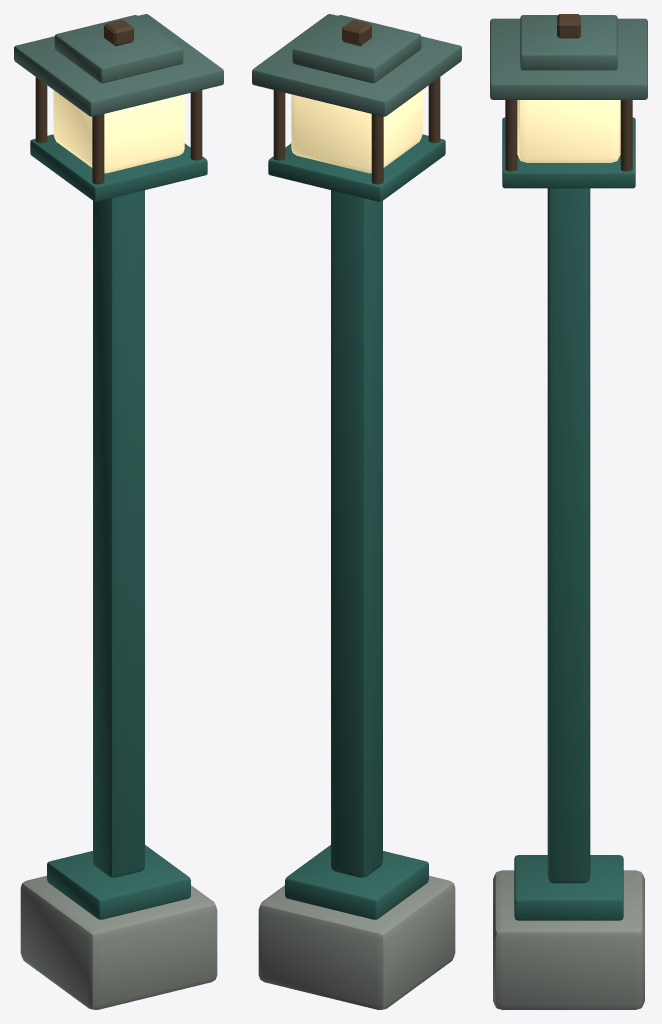
Rendered from lamp-post.glb.
The picture shows the model from 3 angles, left to right: view 1: azimuth 30°, elevation 25°; view 2: azimuth 150°, elevation 25°; view 3: azimuth 270°, elevation 25°; orthographic projection.
Parts seen in each view (by area): view 1: lamp-post; view 2: lamp-post; view 3: lamp-post.
Part boxes in pixels (bbox=[...]): lamp-post: bbox=[14, 14, 223, 1009]; lamp-post: bbox=[252, 14, 461, 1009]; lamp-post: bbox=[490, 14, 647, 1009].
Bounding box in the file's own units: 0.52 × 3.5 × 0.52.
